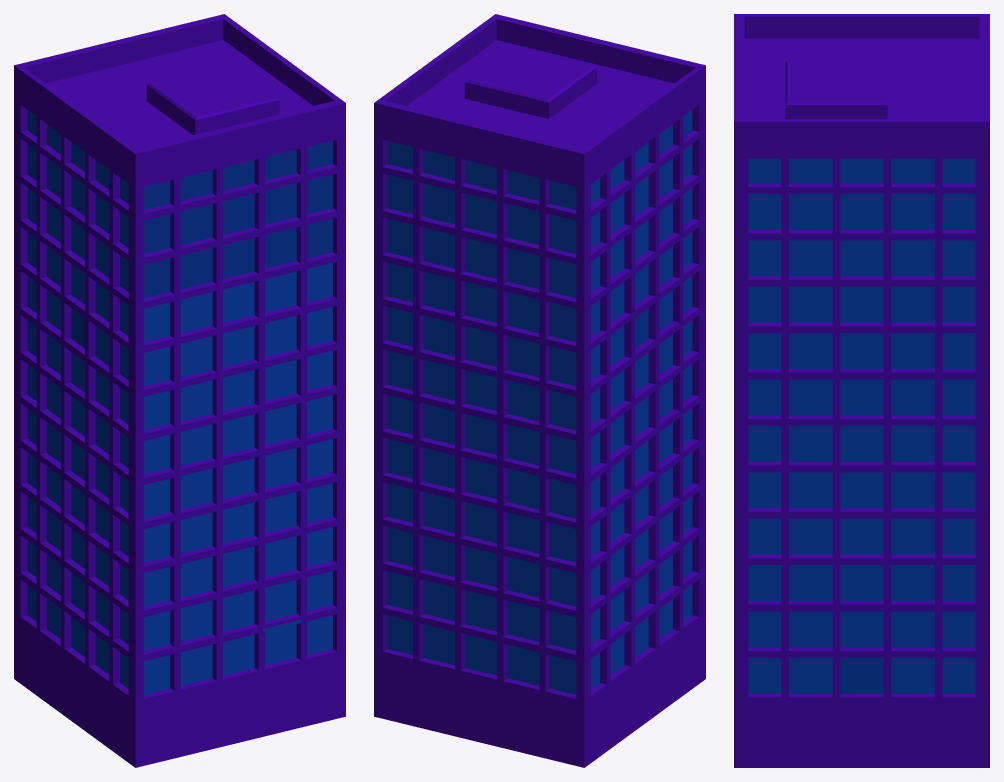
File: skyscraper 1.fbx
3 renders of one model, left to right at view 1: azimuth 30°, elevation 25°; view 2: azimuth 150°, elevation 25°; view 3: azimuth 270°, elevation 25°, orthographic. The views are drawn at different scales.
Parts seen in each view (by area): view 1: skyscraper_1; view 2: skyscraper_1; view 3: skyscraper_1.
Part boxes in pixels (box(x1,y1,x2,y2)): skyscraper_1: box(14, 14, 345, 767); skyscraper_1: box(374, 14, 705, 767); skyscraper_1: box(734, 14, 989, 767).
Size of the model in its own units: 77.37 by 216 by 77.37.
